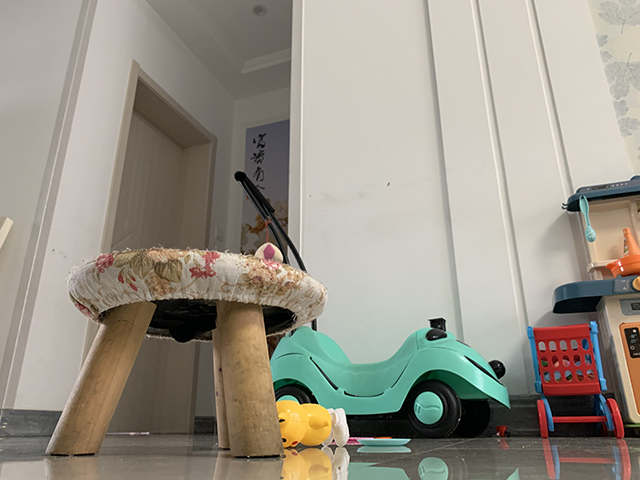stool: (40, 244, 330, 461)
